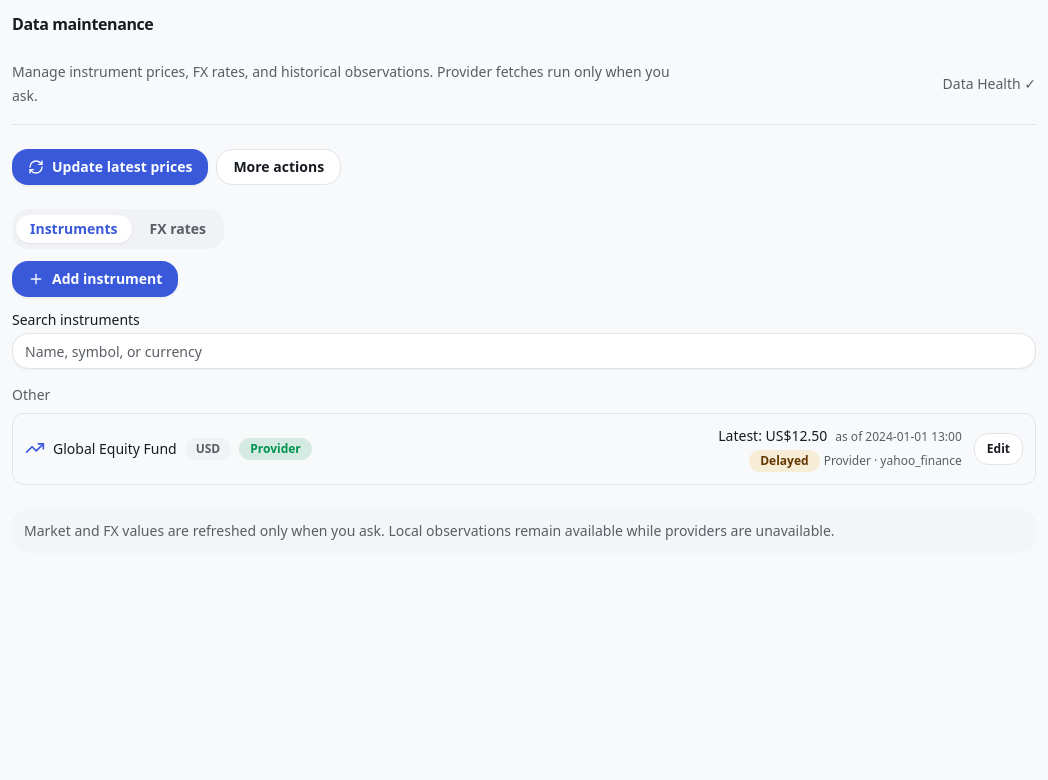
MarketDataPage › shows saved instrument prices and FX rates before a refresh
Expected: the text "Global Equity Fund" is shown, [53,439,177,459]
Expected: the text "Delayed" is shown, [749,450,820,472]
Click the tab "FX rates" at (178, 229), box [136,215,220,243]
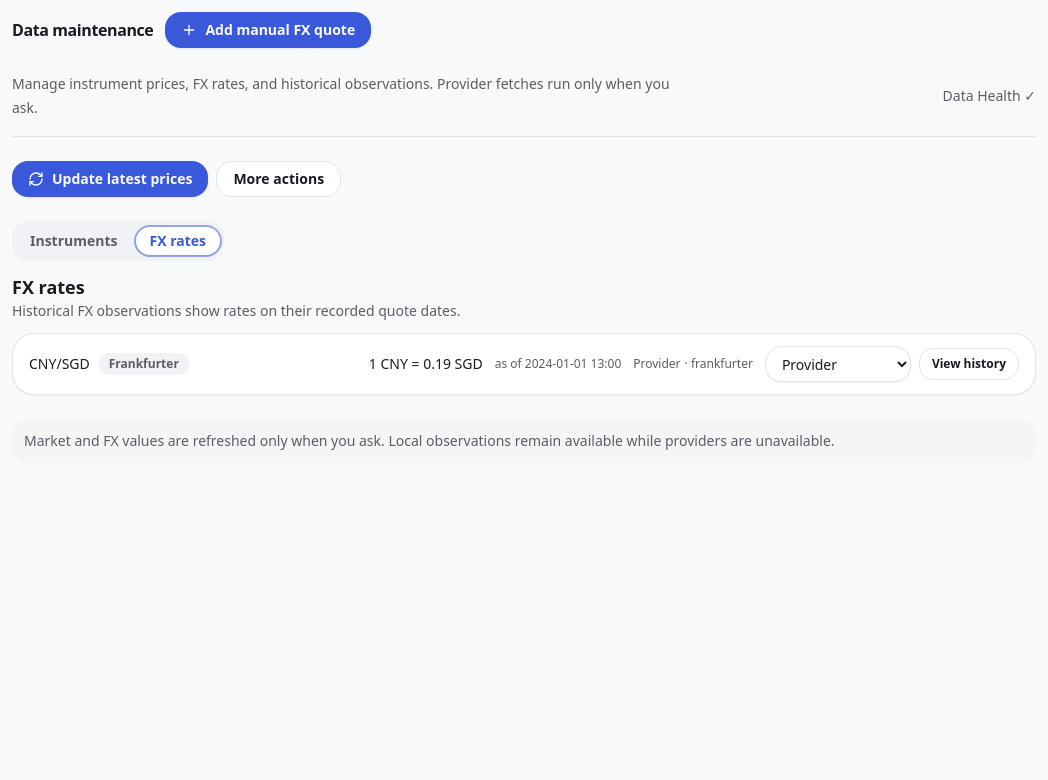
Now the text "1 CNY = 0.19 SGD" is shown, box [369,354,483,374]
Now the element with test id "saved-market-data" shows "CNY/SGD", box [12,273,1036,395]
Now the element with test id "saved-market-data" shows "1 CNY = 0.19 SGD", box [369,354,483,373]
